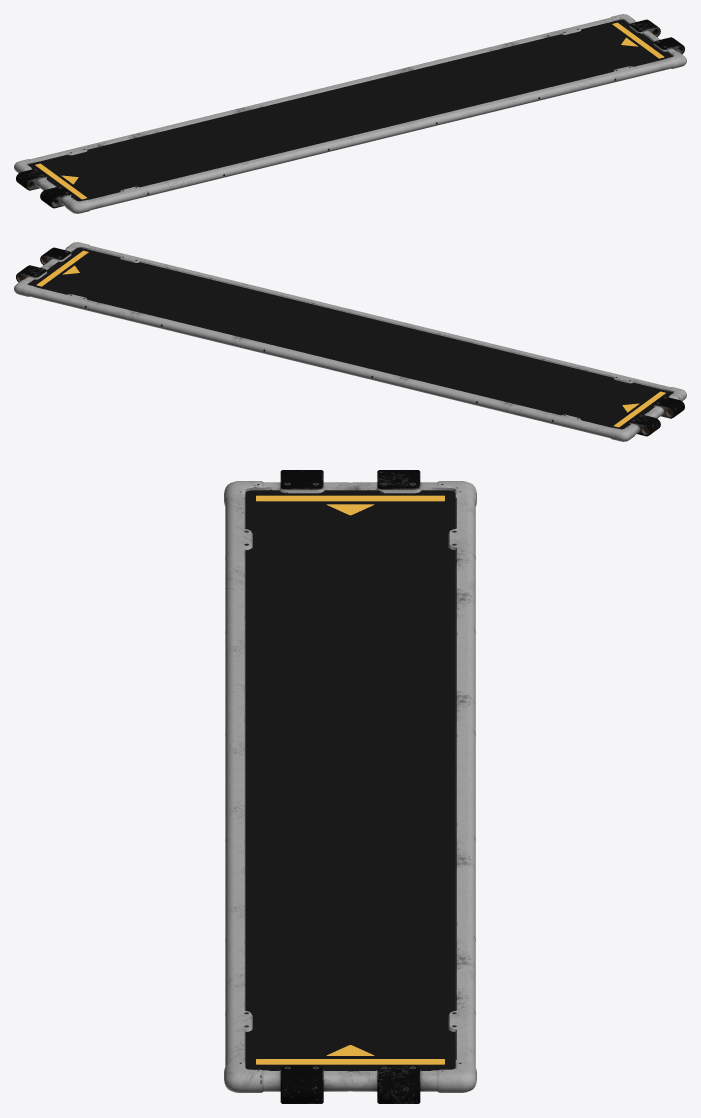
The model's file is GymRampD.fbx.
3 views of the same model, one above another, from view 1: azimuth 30°, elevation 25°; view 2: azimuth 150°, elevation 25°; view 3: azimuth 270°, elevation 25° (orthographic). The views are drawn at different scales.
Parts seen in each view (by area): view 1: GymRampD001; view 2: GymRampD001; view 3: GymRampD001.
Boxes of the visible parts, x1,y1,x2,y2 form: GymRampD001: [14, 14, 686, 213]; GymRampD001: [14, 242, 686, 441]; GymRampD001: [224, 470, 476, 1103].
Size of the model in its own units: 444 by 7.35 by 76.45.
